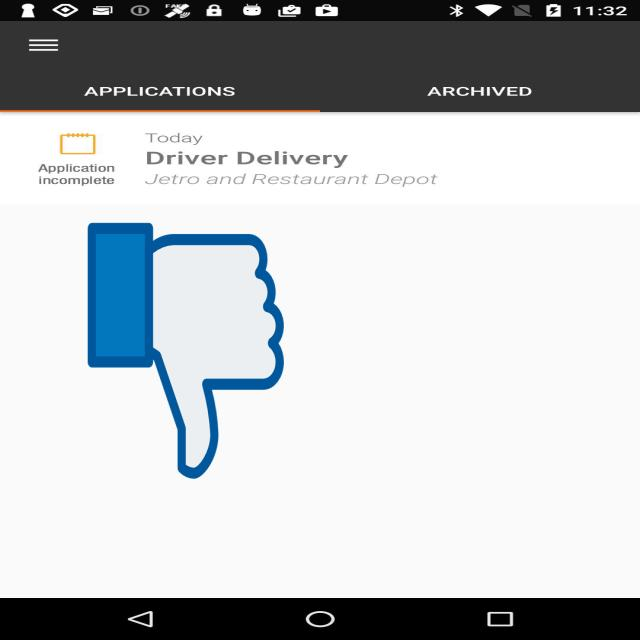obstruction: (88, 218, 284, 484)
